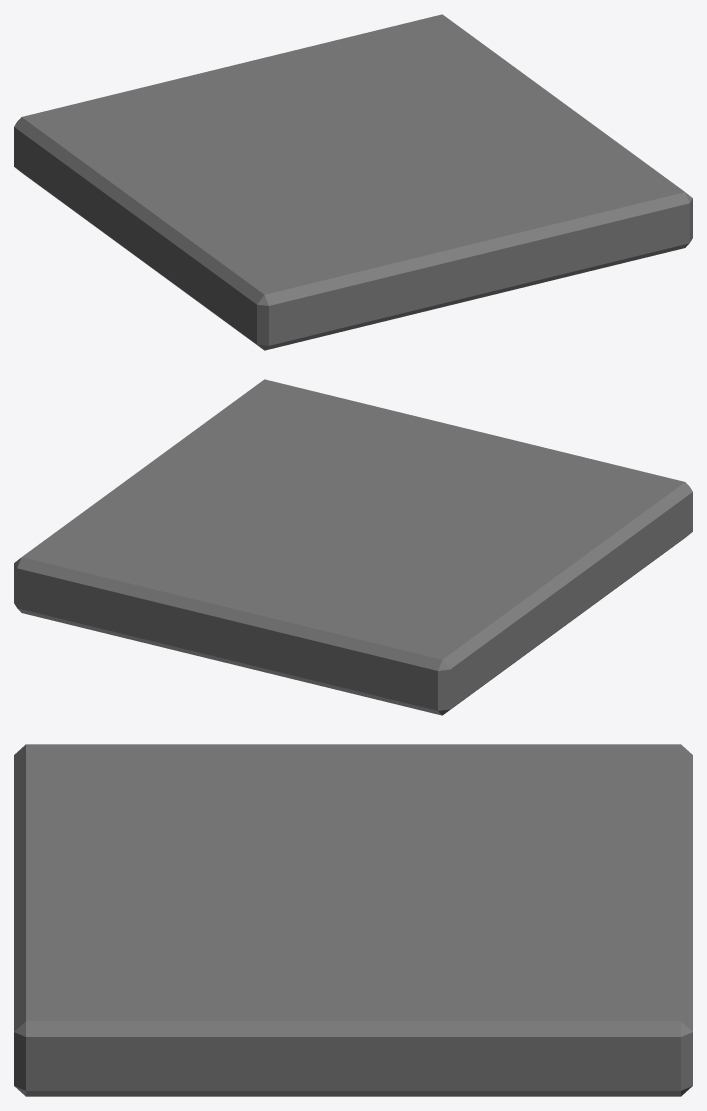
File: Tile_02.fbx
The picture shows the model from 3 angles, top to bottom: view 1: azimuth 30°, elevation 25°; view 2: azimuth 150°, elevation 25°; view 3: azimuth 270°, elevation 25°; orthographic projection. The views are drawn at different scales.
Parts seen in each view (by area): view 1: Tile_02; view 2: Tile_02; view 3: Tile_02.
Boxes of the visible parts, x1=… form: Tile_02: x1=14, y1=14, x2=692, y2=350; Tile_02: x1=14, y1=379, x2=692, y2=715; Tile_02: x1=14, y1=744, x2=692, y2=1096.
Bounding box in the file's own units: 1.48 × 0.1816 × 1.48.
